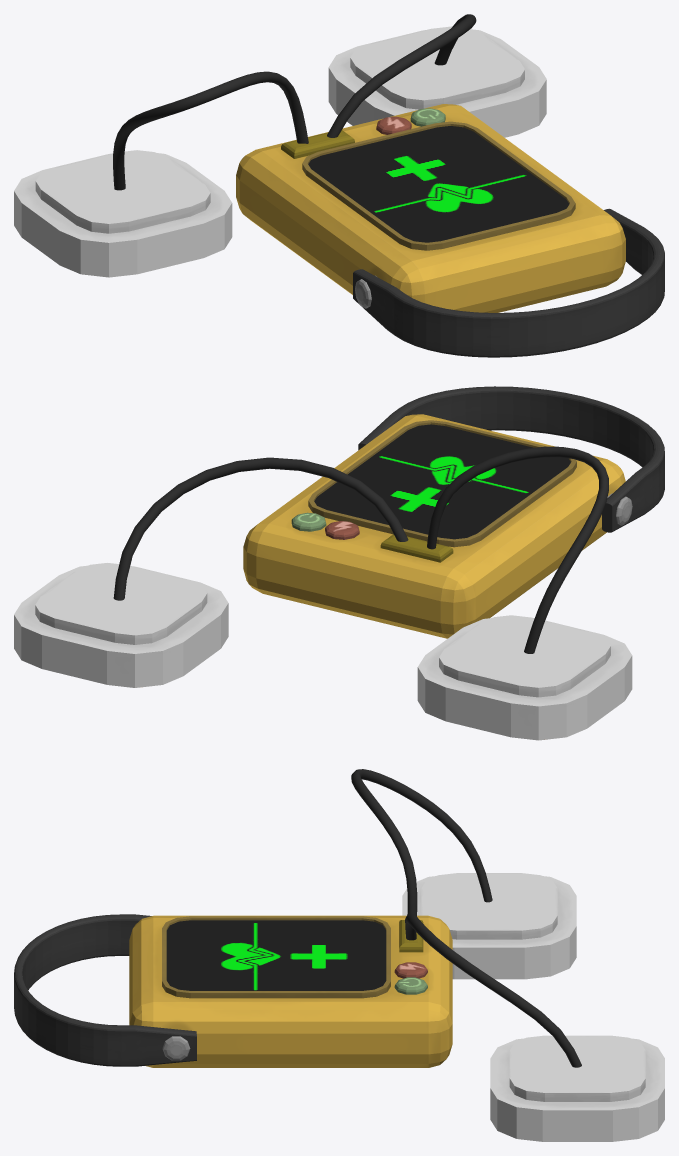
The model's file is Defibrillator.fbx.
The picture shows the model from 3 angles, top to bottom: view 1: azimuth 30°, elevation 25°; view 2: azimuth 150°, elevation 25°; view 3: azimuth 270°, elevation 25°; orthographic projection. The views are drawn at different scales.
Parts seen in each view (by area): view 1: Defib, Wire2, Wire1; view 2: Defib, Wire2, Wire1; view 3: Defib, Wire1, Wire2.
Part boxes in pixels (<box>): Defib: <box>236,104,664,357</box>; Wire2: <box>14,71,308,277</box>; Wire1: <box>327,14,546,137</box>; Defib: <box>243,386,664,638</box>; Wire2: <box>417,446,632,740</box>; Wire1: <box>14,457,408,687</box>; Defib: <box>14,914,452,1067</box>; Wire1: <box>405,913,664,1141</box>; Wire2: <box>351,769,576,979</box>.
Bounding box in the file's own units: 37.08 × 12.92 × 43.19.
Materials: 3 (3 with a texture image).
